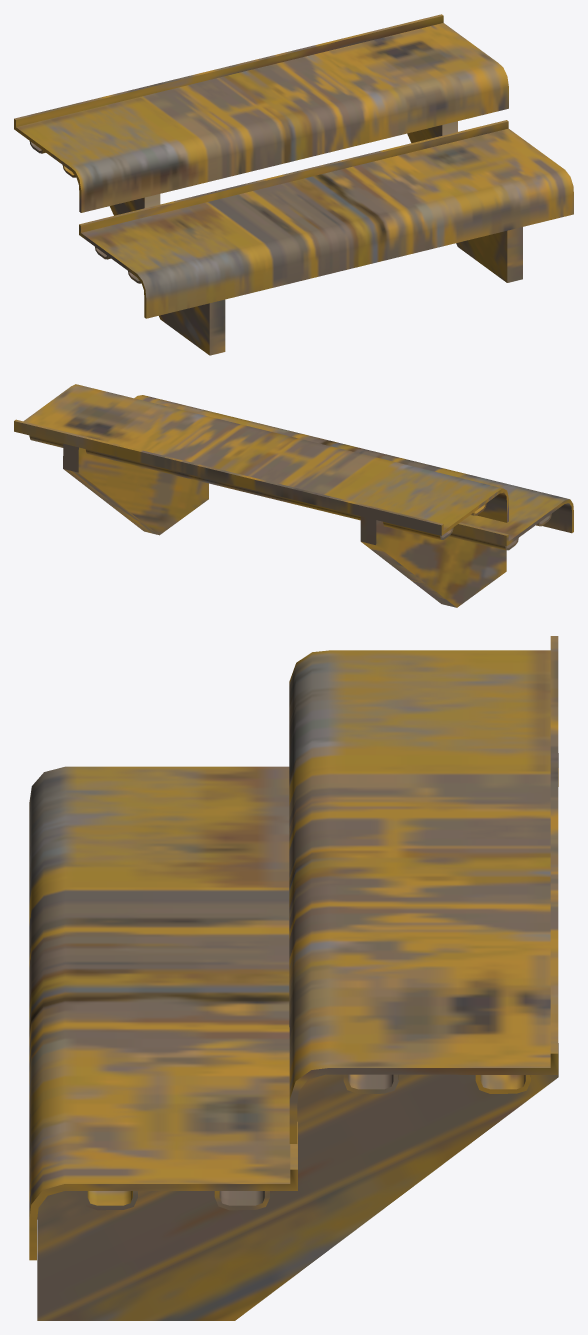
The model's file is SM_Ladder03.gltf.
The picture shows the model from 3 angles, top to bottom: view 1: azimuth 30°, elevation 25°; view 2: azimuth 150°, elevation 25°; view 3: azimuth 270°, elevation 25°; orthographic projection. The views are drawn at different scales.
Parts seen in each view (by area): view 1: SM_Ladder03; view 2: SM_Ladder03; view 3: SM_Ladder03.
Part boxes in pixels (bbox=[...]): SM_Ladder03: bbox=[14, 14, 573, 355]; SM_Ladder03: bbox=[14, 384, 573, 607]; SM_Ladder03: bbox=[29, 636, 558, 1320].
Bounding box in the file's own units: 1.51 × 0.5301 × 0.8063.
Materials: 1 (1 with a texture image).
